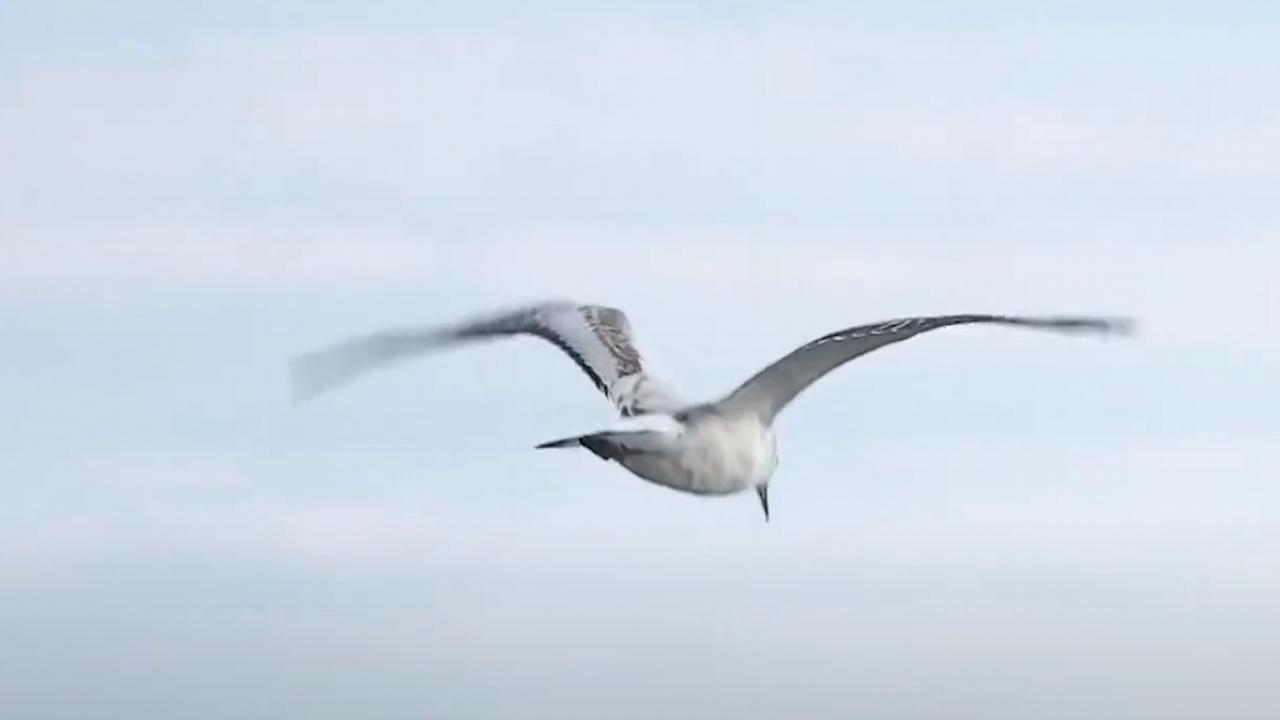Bird: (276, 291, 1159, 537)
